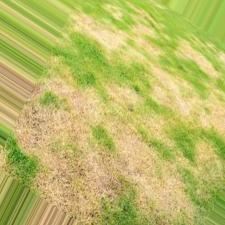patch: (28, 109, 197, 187), (54, 182, 192, 217), (143, 37, 207, 107), (100, 80, 141, 101)
